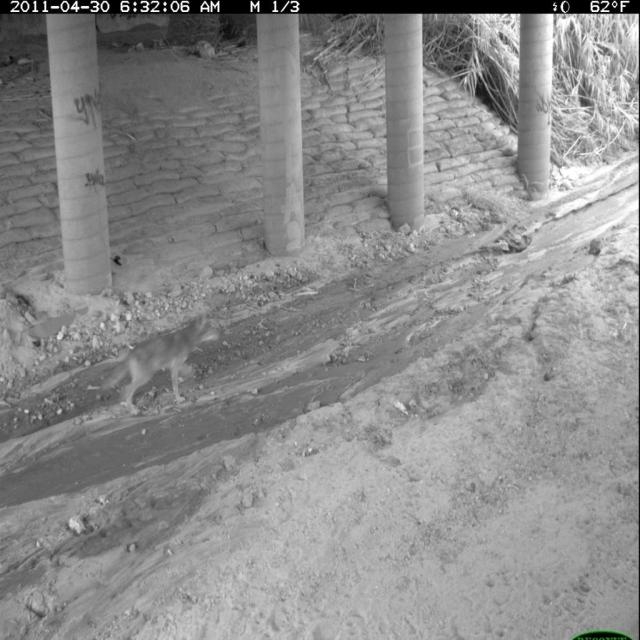coyote: (98, 309, 225, 421)
